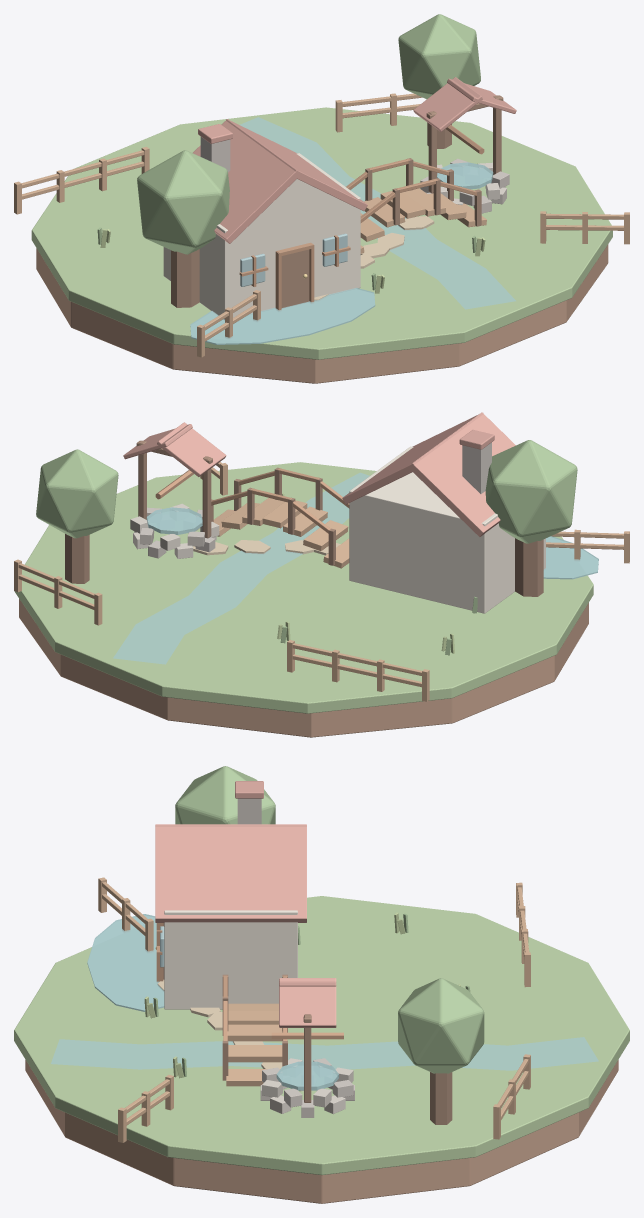
The model's file is cozy-village-low.glb.
3 views of the same model, one above another, from view 1: azimuth 30°, elevation 25°; view 2: azimuth 150°, elevation 25°; view 3: azimuth 270°, elevation 25° (orthographic). The views are drawn at different scales.
Visible parts, largest first — view 1: Island_Grass, Island_Soil, Cottage_Walls, Tree_0_Crown, Stream_Water, Tree_1_Crown, PuddleReflection, Roof_Main_-1, Cottage_Gable, Roof_Main_1, Well_Roof_-1, Tree_0_Trunk (+12 smaller); view 2: Island_Grass, Cottage_Walls, Island_Soil, Stream_Water, Tree_0_Crown, Tree_1_Crown, Roof_Main_-1, Roof_Main_1, Well_Roof_-1, PuddleReflection, Tree_0_Trunk, Well_Water (+13 smaller); view 3: Island_Grass, Island_Soil, Roof_Main_1, Cottage_Walls, Stream_Water, Tree_1_Crown, PuddleReflection, Tree_0_Crown, Well_Roof_1, Well_Water, Tree_1_Trunk, Bridge_Plank_05 (+5 smaller).
Boxes of the visible parts, x1,y1,x2,y2 form: Island_Grass: (31, 107, 612, 359); Island_Soil: (36, 244, 608, 383); Cottage_Walls: (163, 153, 360, 319); Tree_0_Crown: (137, 150, 229, 254); Stream_Water: (240, 117, 515, 309); Tree_1_Crown: (398, 14, 480, 99); PuddleReflection: (190, 287, 375, 344); Roof_Main_-1: (193, 119, 300, 243); Cottage_Gable: (237, 179, 356, 237); Roof_Main_1: (226, 119, 367, 211); Well_Roof_-1: (413, 77, 482, 131); Tree_0_Trunk: (171, 249, 199, 307); Island_Grass: (14, 462, 593, 713); Cottage_Walls: (349, 446, 545, 613); Island_Soil: (19, 599, 588, 737); Stream_Water: (113, 472, 369, 664); Tree_0_Crown: (485, 440, 577, 543); Tree_1_Crown: (36, 449, 118, 538); Roof_Main_-1: (409, 412, 515, 536); Roof_Main_1: (342, 412, 483, 504); Well_Roof_-1: (157, 422, 226, 476); PuddleReflection: (543, 536, 598, 579); Tree_0_Trunk: (515, 538, 543, 596); Well_Water: (146, 507, 202, 534); Island_Grass: (14, 896, 629, 1175); Island_Soil: (25, 1060, 618, 1203); Roof_Main_1: (155, 824, 306, 922); Cottage_Walls: (164, 910, 297, 1009); Stream_Water: (51, 1037, 598, 1070); Tree_1_Crown: (398, 978, 484, 1073); PuddleReflection: (87, 914, 164, 1011); Tree_0_Crown: (175, 766, 275, 824); Well_Roof_1: (279, 978, 336, 1027); Well_Water: (276, 1061, 338, 1090); Tree_1_Trunk: (430, 1072, 452, 1124); Bridge_Plank_05: (228, 1045, 282, 1062).
Size of the model in its own units: 22.34 by 8.19 by 21.7.
